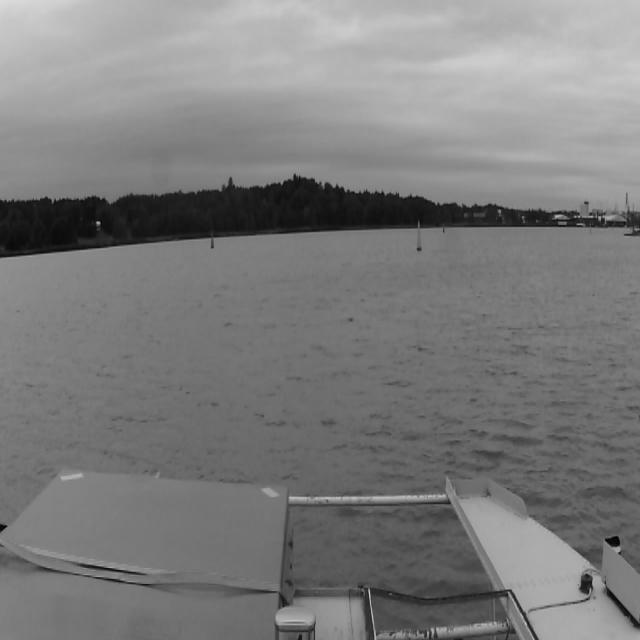buoy: (417, 221, 423, 251), (439, 218, 444, 231), (211, 232, 214, 249)
